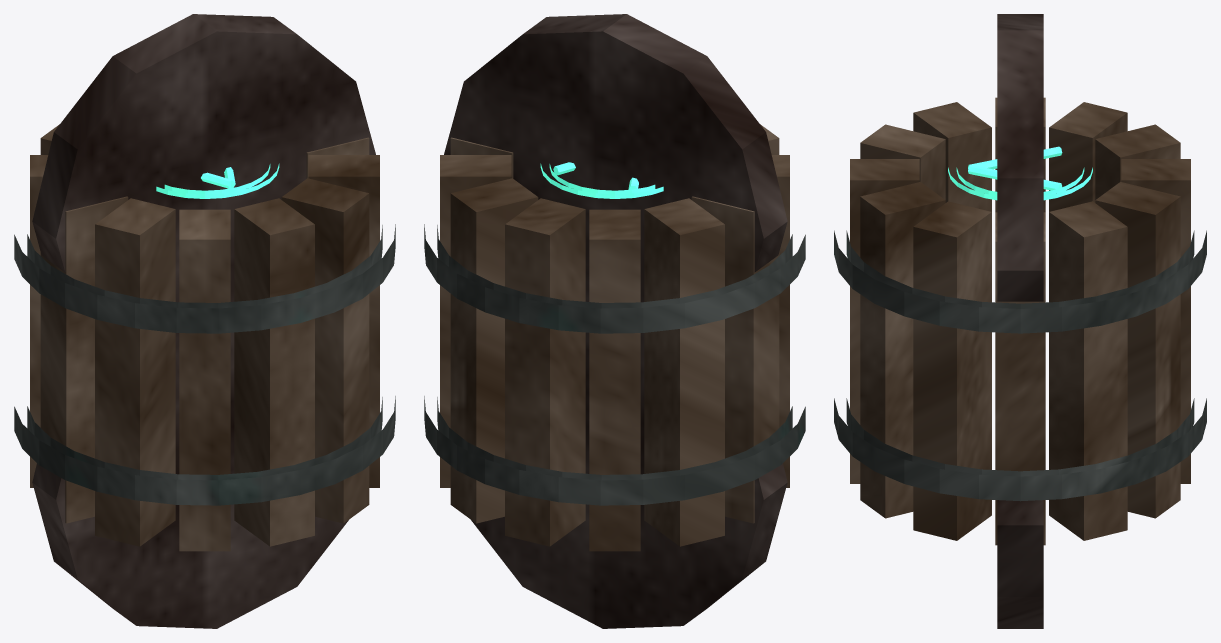
The model's file is 0788_barrel_13.glb.
The picture shows the model from 3 angles, left to right: view 1: azimuth 30°, elevation 25°; view 2: azimuth 150°, elevation 25°; view 3: azimuth 270°, elevation 25°; orthographic projection. The views are drawn at different scales.
Parts seen in each view (by area): view 1: wood, wood_dark, iron, glow; view 2: wood, wood_dark, iron, glow; view 3: wood, iron, wood_dark, glow.
Part boxes in pixels (x1,y1,x2,y2): wood: [30, 124, 379, 551]; wood_dark: [32, 14, 375, 628]; iron: [14, 224, 395, 505]; glow: [156, 163, 279, 198]; wood: [440, 124, 789, 551]; wood_dark: [444, 14, 787, 628]; iron: [424, 224, 805, 505]; glow: [540, 162, 663, 198]; wood: [850, 97, 1190, 545]; iron: [834, 230, 1206, 501]; wood_dark: [997, 14, 1043, 628]; glow: [948, 146, 1092, 200].
Bounding box in the file's own units: 0.9631 × 1.66 × 0.9631.
Materials: 4 (4 with a texture image).
